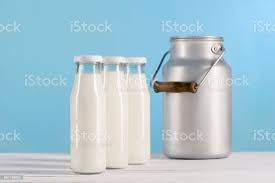milk: (68, 54, 108, 171), (102, 50, 132, 173), (128, 44, 155, 169)
